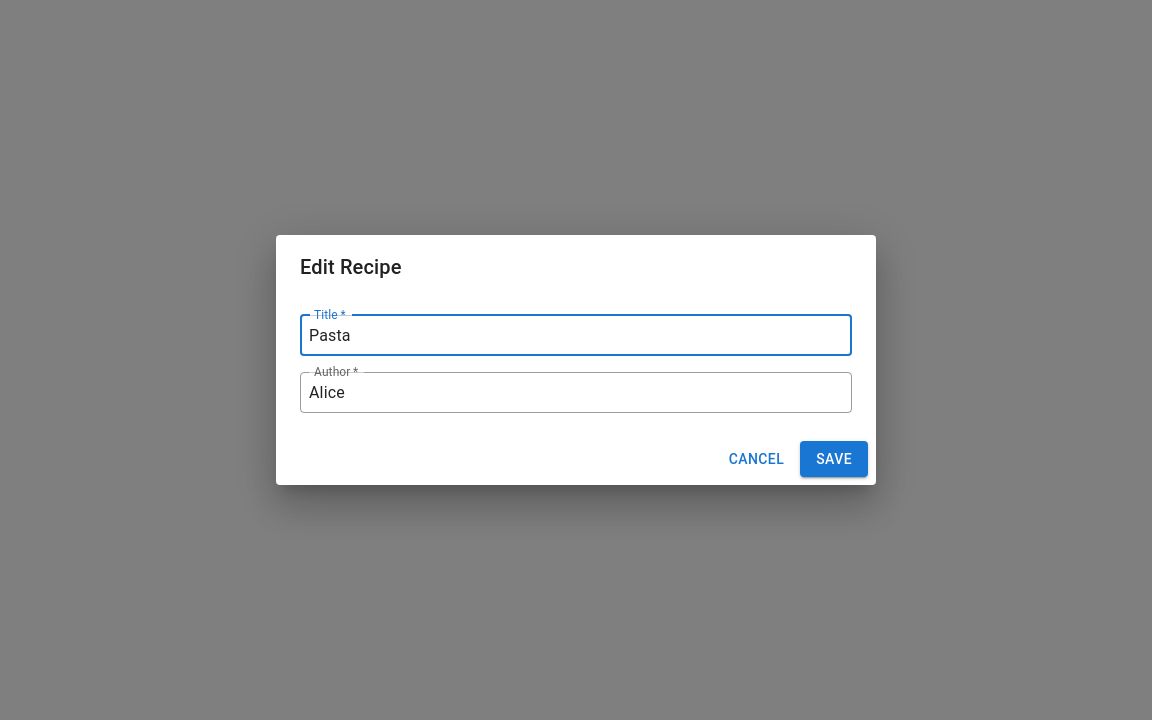
Test: RecipeFormDialog › edit mode › shows warning when fields were modified and cancel is clicked
Type " extra" into the field labelled "Title *" at x=576, y=335, box [300,315,852,356]
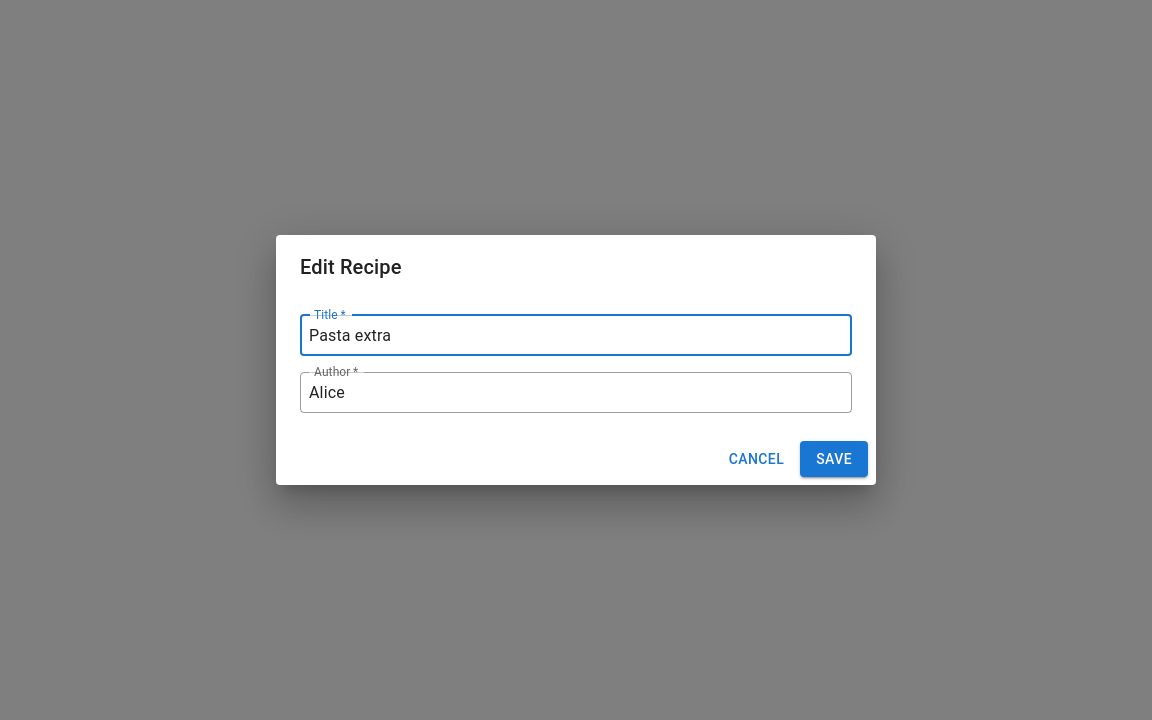
Click the button "Cancel" at x=756, y=459, box [721,441,792,477]
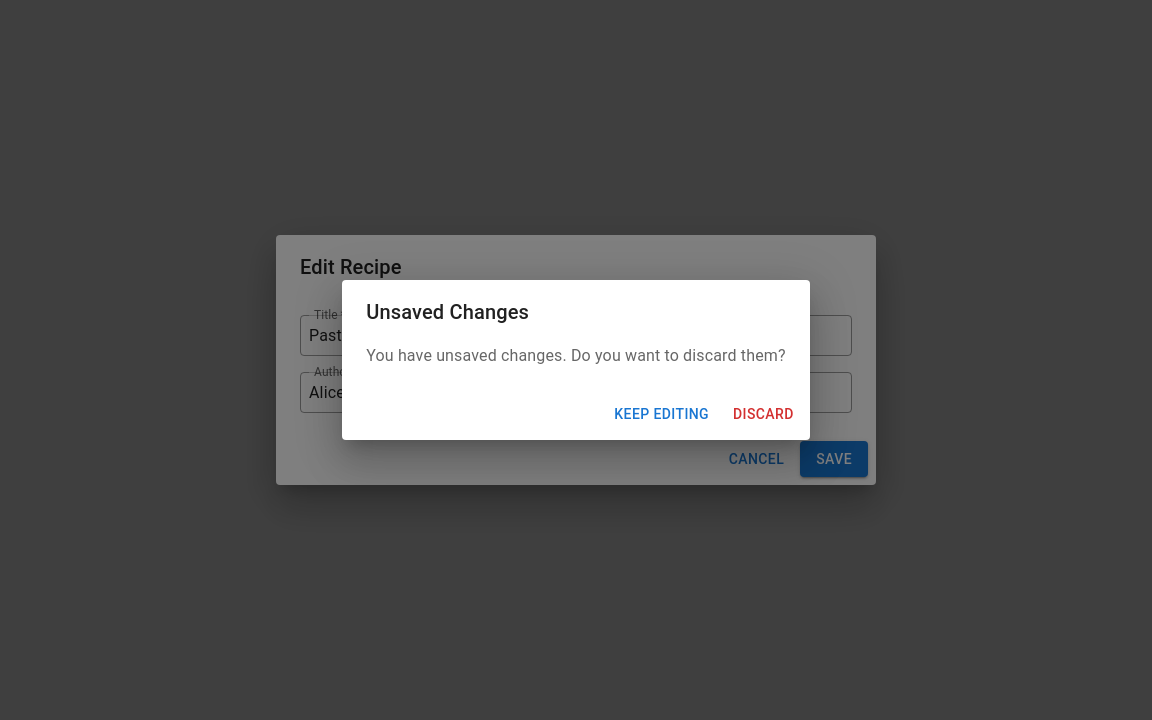
Check: the heading "Unsaved Changes" is shown, box [366,300,529,324]
